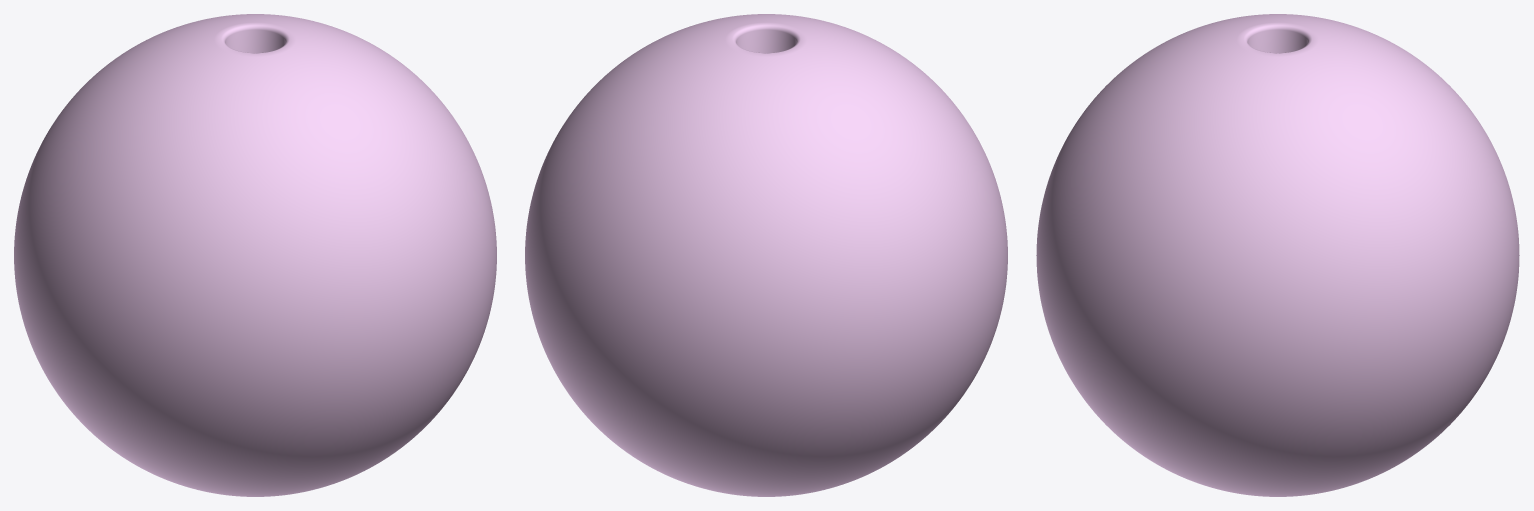
Rendered from kunzite-clear-8mm.glb.
The picture shows the model from 3 angles, left to right: view 1: azimuth 30°, elevation 25°; view 2: azimuth 150°, elevation 25°; view 3: azimuth 270°, elevation 25°; orthographic projection.
Visible parts, largest first — view 1: 冰透紫锂辉石; view 2: 冰透紫锂辉石; view 3: 冰透紫锂辉石.
Part boxes in pixels (bbox=[...]): 冰透紫锂辉石: bbox=[14, 14, 496, 496]; 冰透紫锂辉石: bbox=[525, 14, 1007, 496]; 冰透紫锂辉石: bbox=[1036, 14, 1519, 496].
Bounding box in the file's own units: 0.008 × 0.00792 × 0.008.
